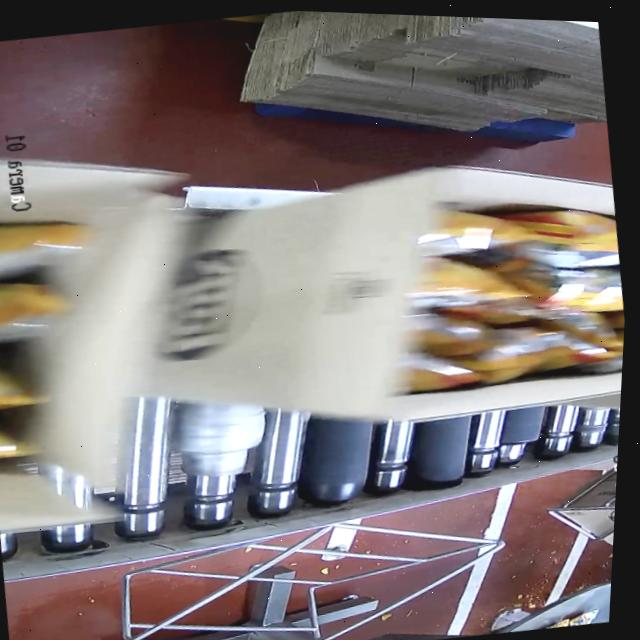FRENCH_CHEESE: (409, 187, 631, 408)
